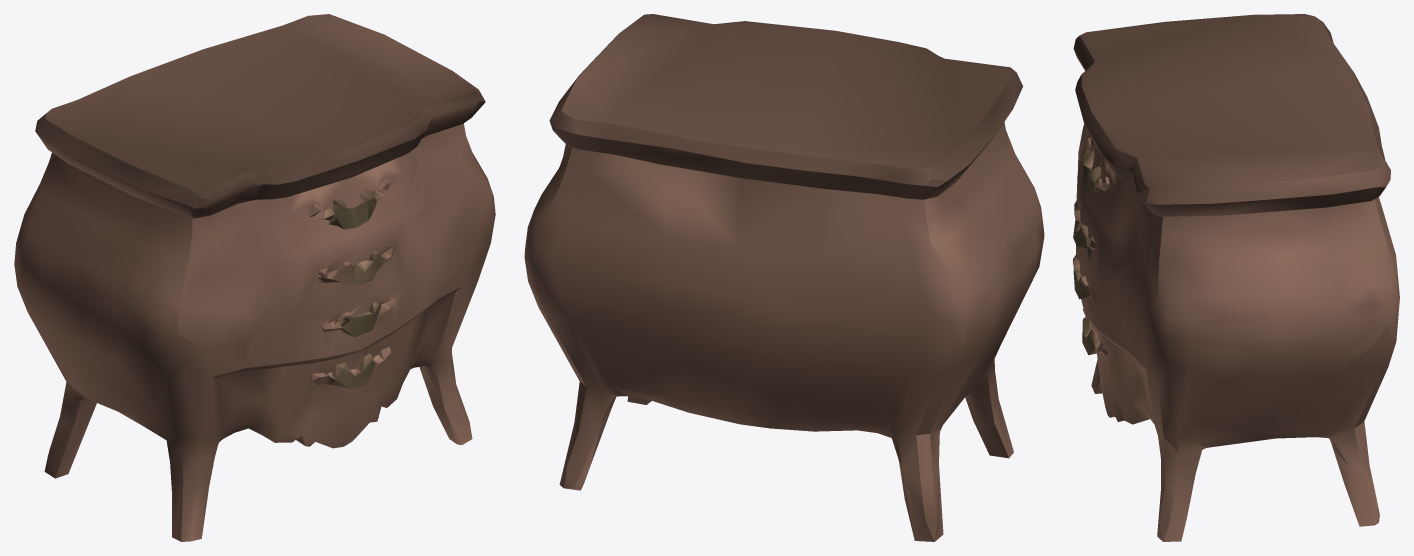
File: Chest01.fbx
3 renders of one model, left to right at view 1: azimuth 30°, elevation 25°; view 2: azimuth 150°, elevation 25°; view 3: azimuth 270°, elevation 25°, orthographic. The views are drawn at different scales.
Parts seen in each view (by area): view 1: Chest; view 2: Chest; view 3: Chest.
Part boxes in pixels (box(x1,y1,x2,y2)): Chest: box(14, 14, 495, 541); Chest: box(524, 14, 1044, 541); Chest: box(1073, 14, 1399, 541).
Size of the model in its own units: 128 by 105 by 87.31.
